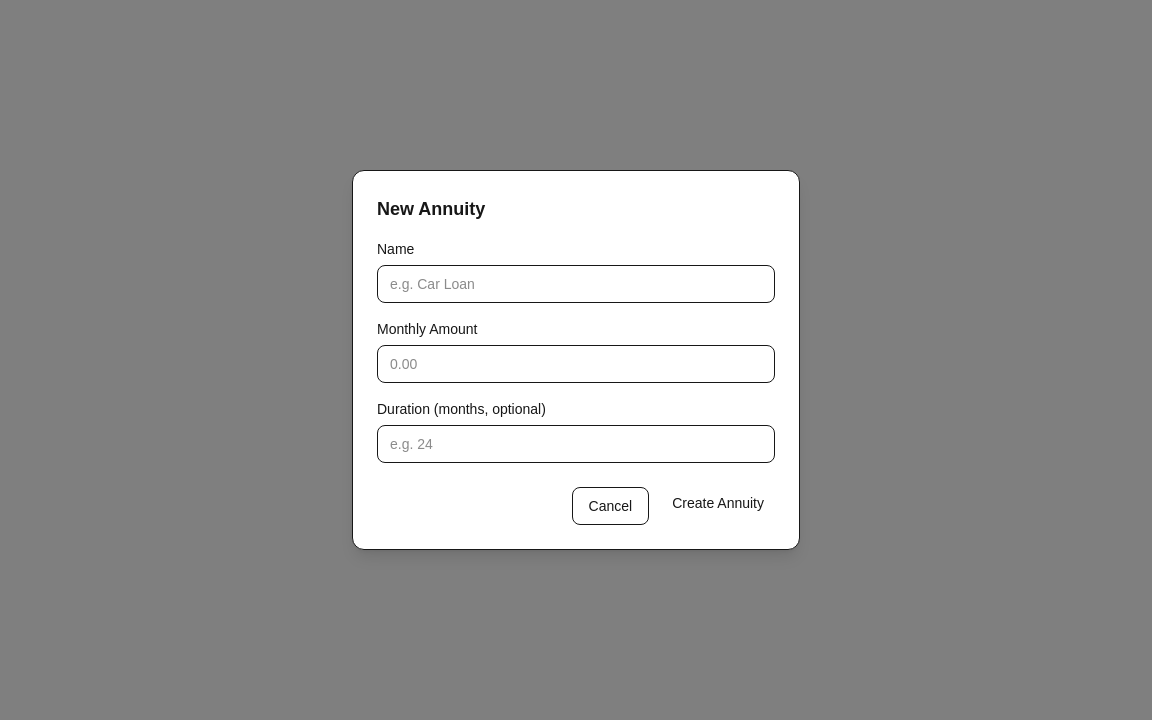
Test: NewAnnuityDialog › For the flat-rate path: form fields are name (required) and monthly amount (required, positive) › shows a monthly amount error when monthly amount is not positive
The image size is (1152, 720).
Type "Spotify" into the field labelled "Name".
click(576, 284); type("Spotify")  # box [377,265,775,303]
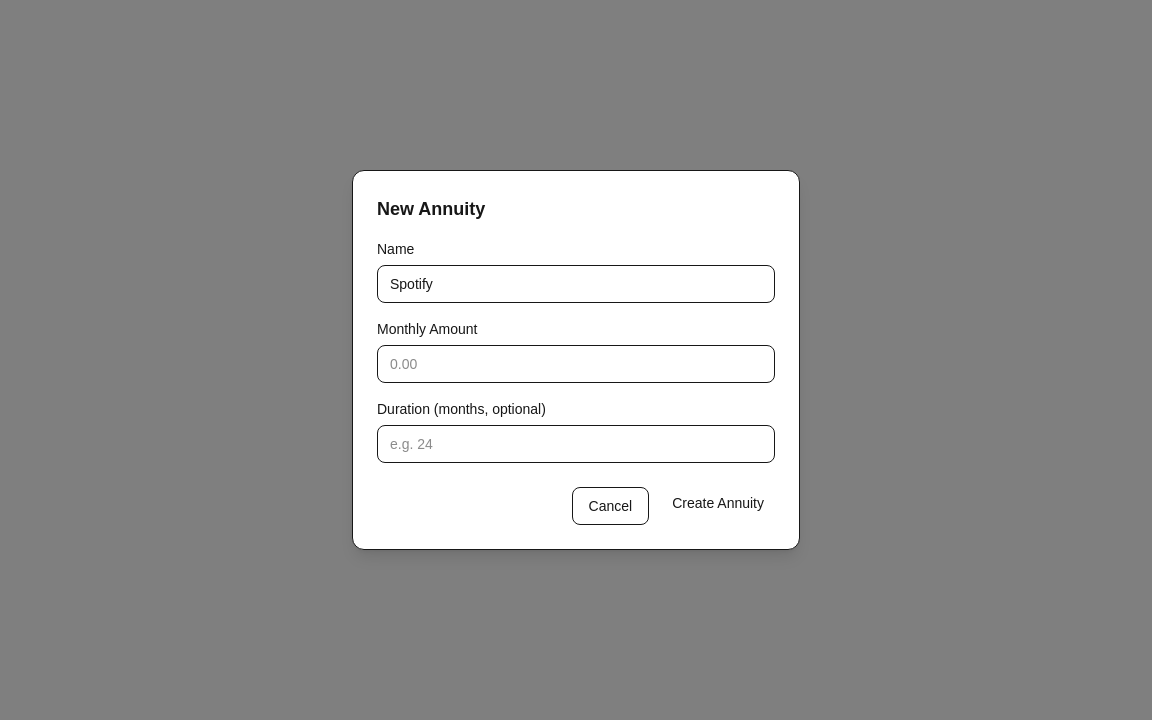
Type "-10" into the number field labelled "Monthly Amount".
click(576, 364); type("-10")  # box [377,345,775,383]
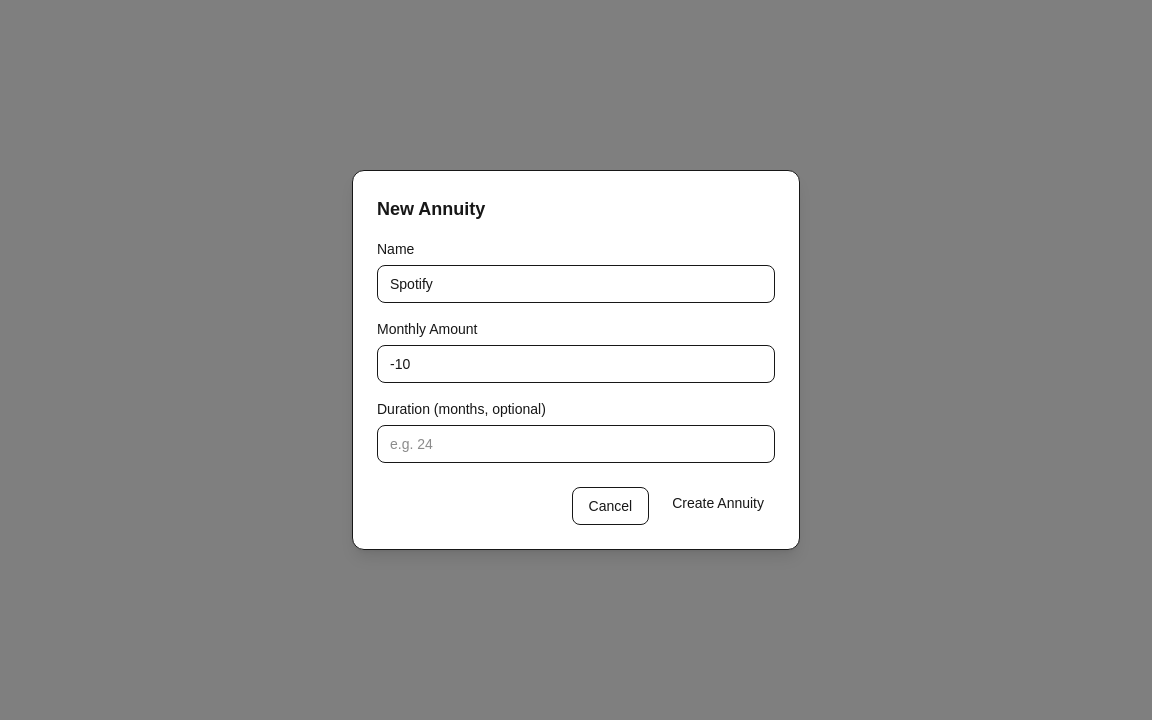
Submit the form, box [377,239,775,525]
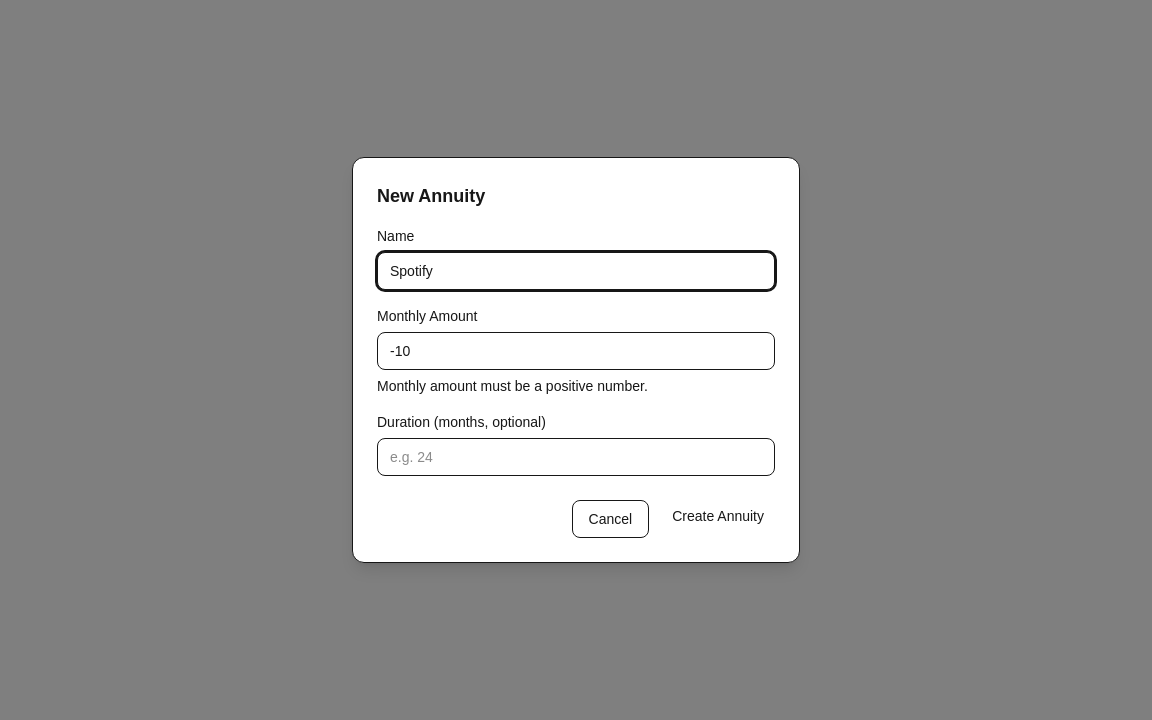
expect the text "Monthly amount must be a positive number." is shown: met, box [377,378,648,394]
